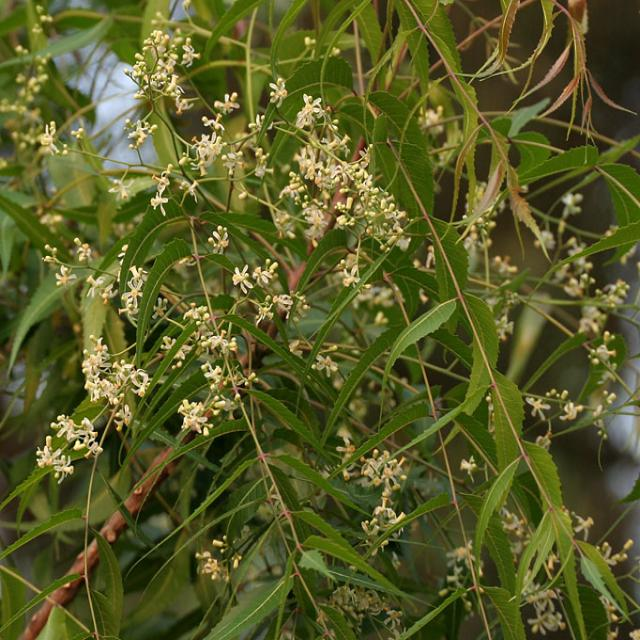Medicinal-Neem: (8, 0, 640, 640)
